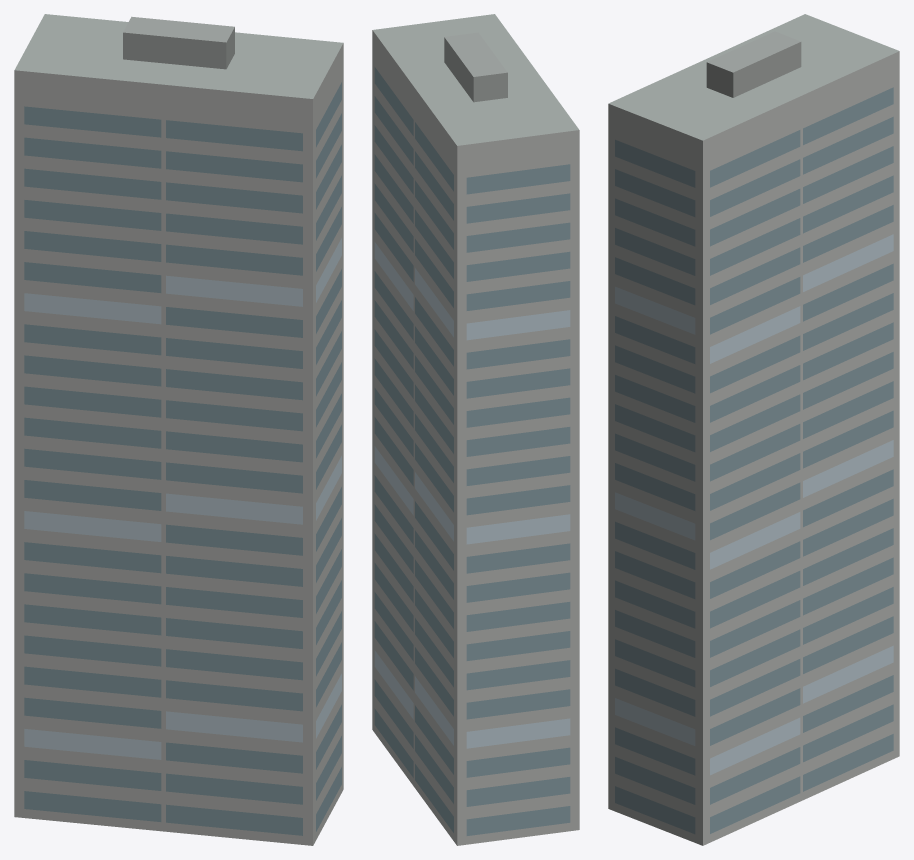
File: fallback-dmc-parkview-xi-extension-116.glb
3 renders of one model, left to right at view 1: azimuth 30°, elevation 25°; view 2: azimuth 150°, elevation 25°; view 3: azimuth 270°, elevation 25°, orthographic. The views are drawn at different scales.
Parts seen in each view (by area): view 1: fallback-dmc-parkview-xi-extension-116; view 2: fallback-dmc-parkview-xi-extension-116; view 3: fallback-dmc-parkview-xi-extension-116.
Boxes of the visible parts, x1,y1,x2,y2 form: fallback-dmc-parkview-xi-extension-116: (14,14,343,845); fallback-dmc-parkview-xi-extension-116: (372,14,579,845); fallback-dmc-parkview-xi-extension-116: (608,14,899,845).
Size of the model in its own units: 25.67 by 69 by 24.95.
